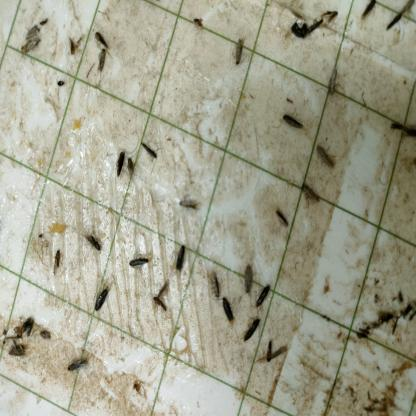prays_oleae: (298, 176, 323, 216), (89, 278, 114, 317), (312, 140, 336, 177), (280, 110, 307, 140), (126, 249, 154, 275), (172, 235, 189, 272), (66, 352, 90, 378), (240, 258, 255, 298), (176, 191, 199, 217), (252, 280, 270, 312), (241, 316, 260, 346), (231, 35, 248, 68), (323, 65, 339, 100), (204, 270, 222, 301), (274, 197, 290, 231), (139, 136, 158, 164), (8, 340, 30, 364), (83, 228, 103, 254), (93, 50, 112, 77), (263, 338, 282, 364), (385, 6, 403, 33), (218, 297, 235, 325), (64, 32, 82, 57), (92, 28, 112, 50), (112, 151, 127, 180), (50, 250, 68, 274), (16, 316, 33, 338), (354, 2, 378, 17), (153, 280, 169, 299), (152, 295, 168, 314), (126, 153, 137, 180), (23, 24, 42, 39), (18, 43, 42, 52), (39, 325, 52, 341)
